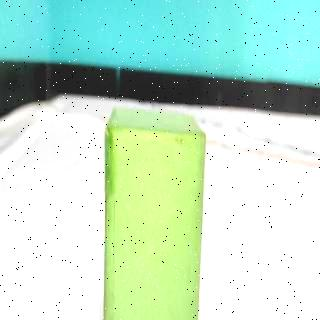greenbox: (104, 102, 210, 320)
